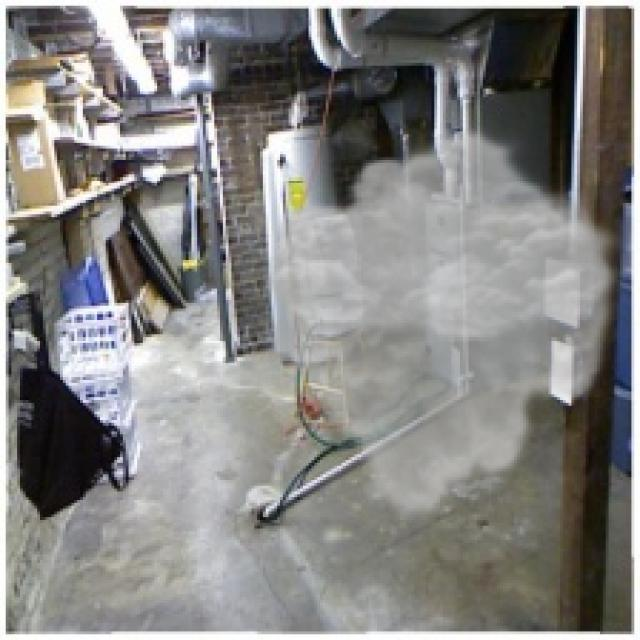Smoke: (254, 125, 626, 526)
